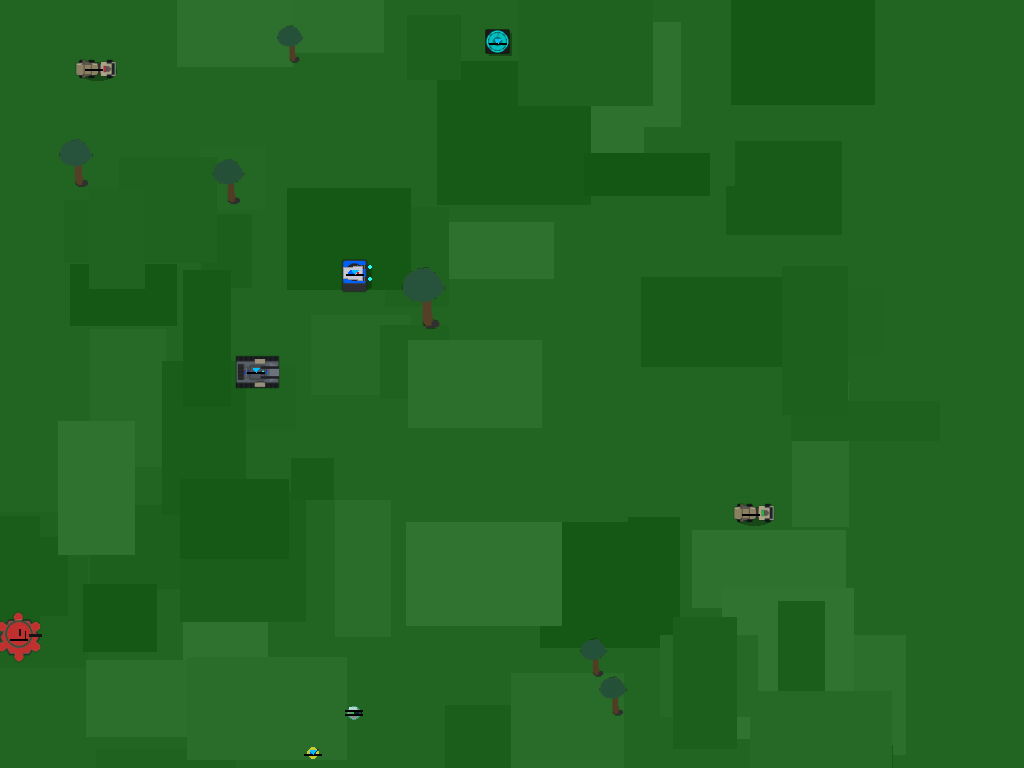APC_rus: (235, 350, 278, 393)
AntiAirTurret: (333, 251, 376, 294)
Bunker: (0, 610, 55, 665)
CombatEngineer: (300, 739, 326, 765)
HIMARS: (72, 47, 115, 90), (730, 491, 773, 534)
LaserTurret: (477, 20, 520, 63)
Shotgunner: (340, 700, 366, 726)
